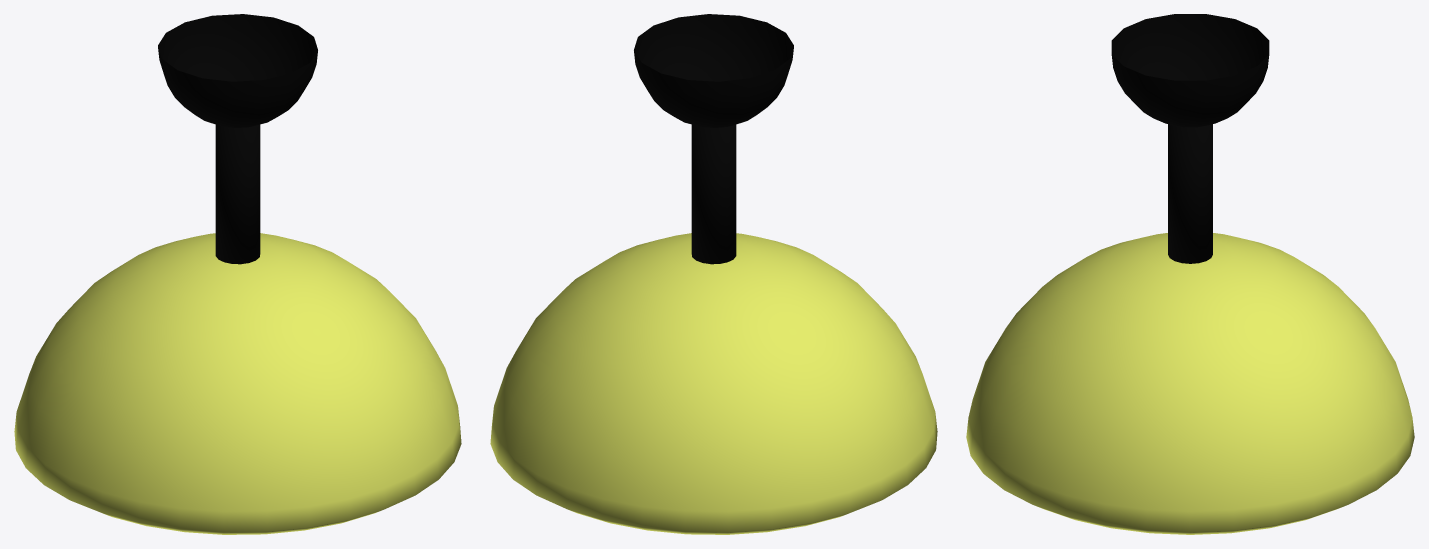
The model's file is Lamp.fbx.
The picture shows the model from 3 angles, left to right: view 1: azimuth 30°, elevation 25°; view 2: azimuth 150°, elevation 25°; view 3: azimuth 270°, elevation 25°; orthographic projection.
Parts seen in each view (by area): view 1: LampHolder.003, LampHolder; view 2: LampHolder.003, LampHolder; view 3: LampHolder.003, LampHolder.
Boxes of the visible parts, x1,y1,x2,y2 form: LampHolder.003: [14, 233, 461, 534]; LampHolder: [158, 14, 317, 264]; LampHolder.003: [490, 233, 937, 534]; LampHolder: [634, 14, 793, 264]; LampHolder.003: [966, 233, 1414, 534]; LampHolder: [1111, 14, 1269, 263].
Size of the model in its own units: 229 by 230 by 229.
